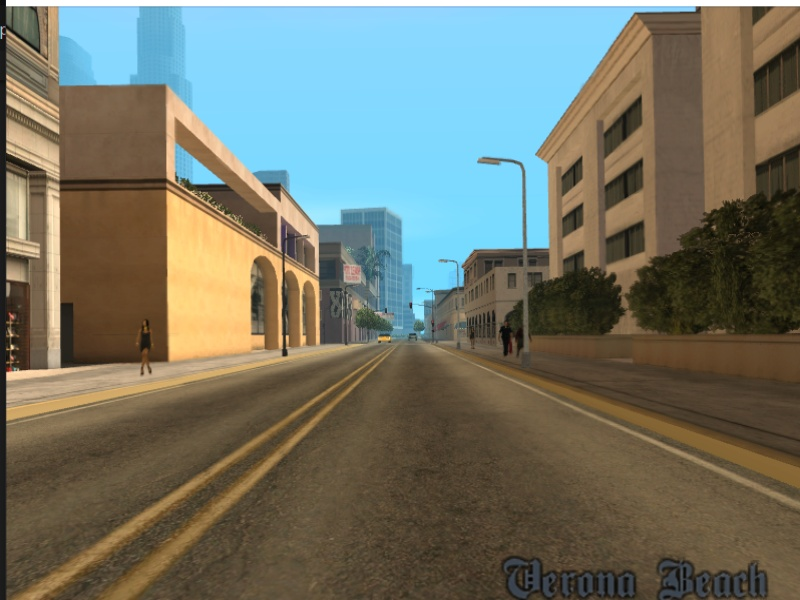person: (136, 321, 159, 377), (498, 320, 515, 355), (468, 324, 477, 352)
pole: (518, 160, 537, 369), (279, 239, 293, 359), (454, 259, 462, 355)
vehicle: (378, 332, 393, 344)
